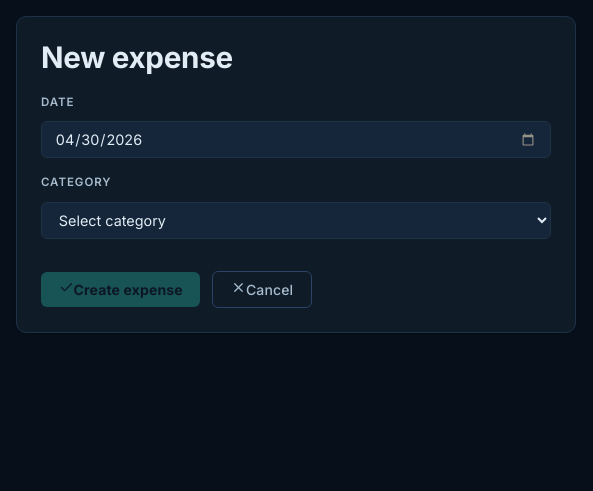
Test case: ExpenseFormPage › create mode › should display error and keep form enabled on API failure
The width and height of the screenshot is (593, 491).
Select "Parking" in the dropdown named "category" at (296, 220), box x1=41 y1=202 x2=551 y2=239
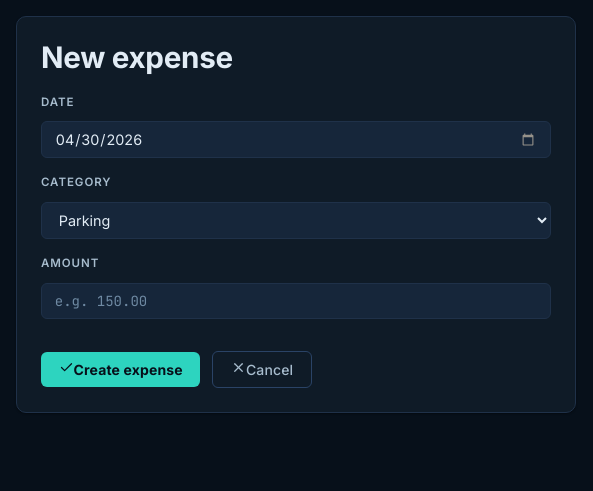
Type "20" into the number field named "amount" at (296, 300), box x1=41 y1=282 x2=551 y2=318
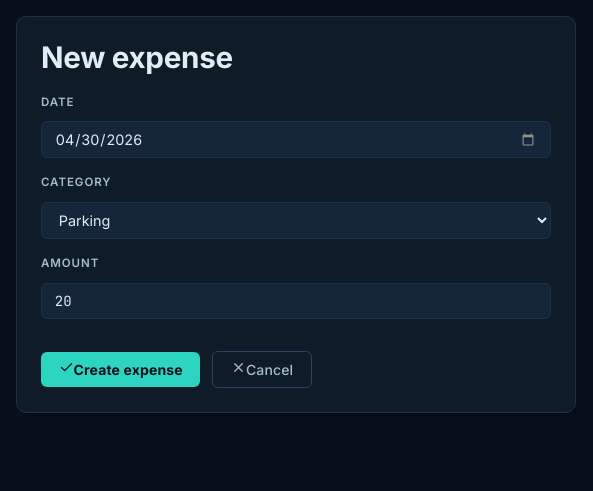
Submit the form, box x1=41 y1=94 x2=551 y2=388
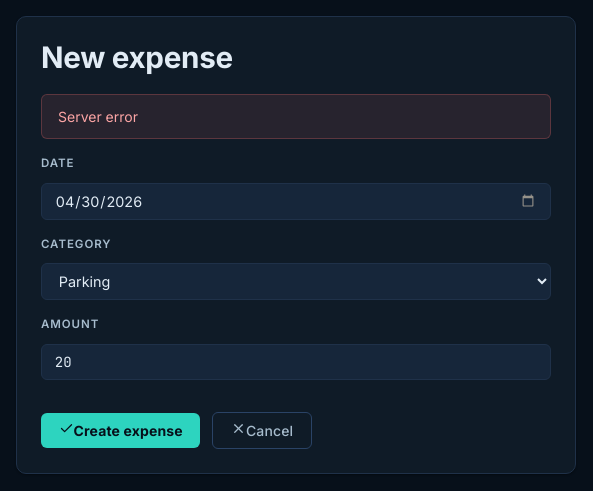
Now the button "Create expense" is enabled, box x1=41 y1=413 x2=200 y2=448
Now the text "Server error" is shown, box x1=41 y1=94 x2=551 y2=139
